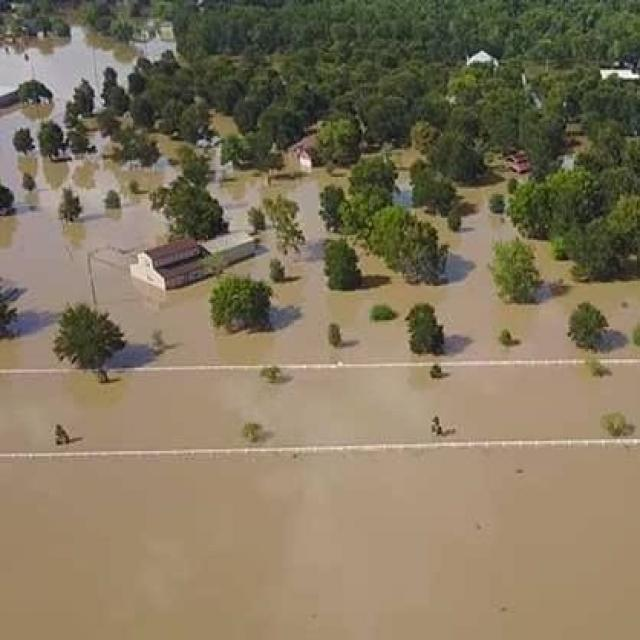flood: (0, 22, 640, 370), (0, 445, 640, 640), (0, 368, 640, 450)
house: (124, 231, 216, 290), (200, 230, 264, 266)
